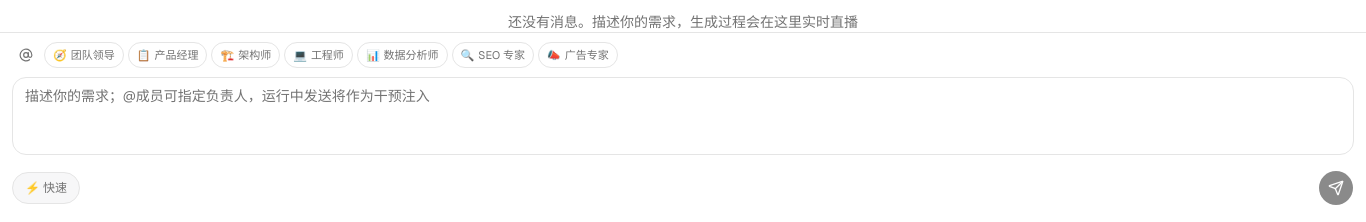
Scenario: 输入区 › @ 浮层键盘：Enter 选中候选、Esc 关闭浮层
Type "@工程师" into the text box named "输入消息" at (683, 116), box 12,77 -> 1354,155
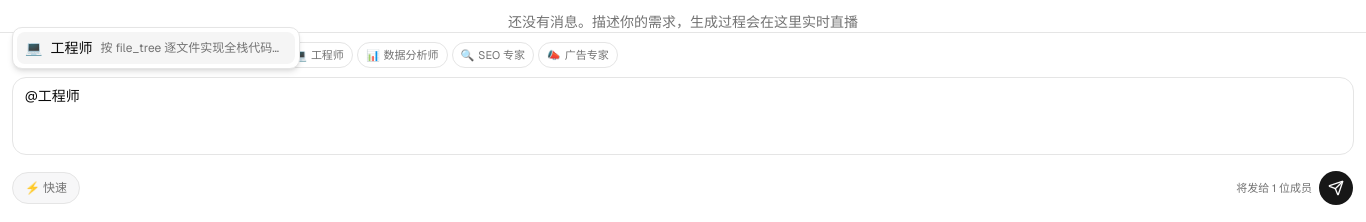
Result: the list named "成员浮层" is shown at 12,27 -> 300,69
Press Enter in the text box named "输入消息", box 12,77 -> 1354,155
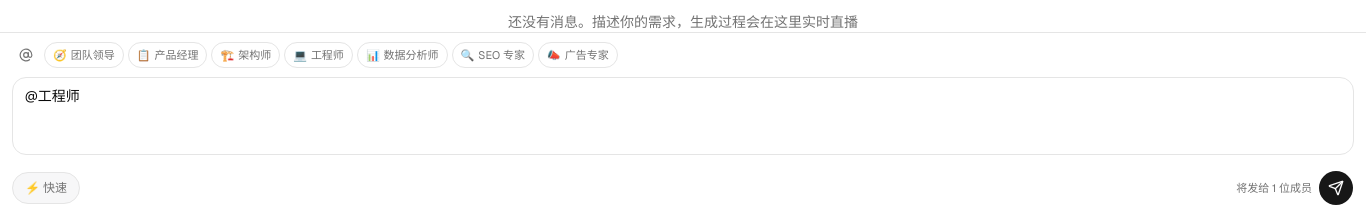
Result: the list "成员浮层" is gone
Replace the text in the text box named "输入消息" with "@seo" at (683, 116), box 12,77 -> 1354,155
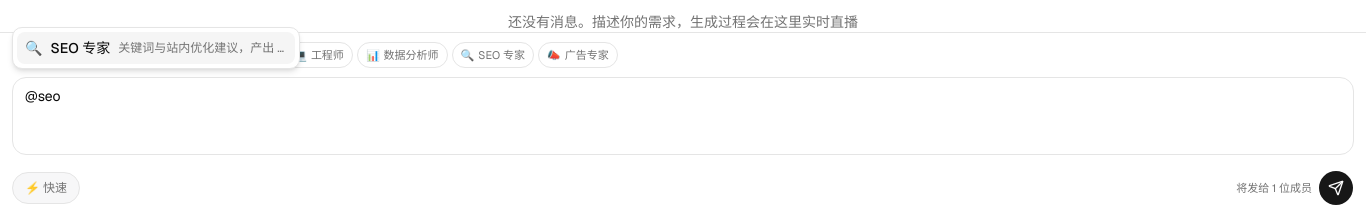
Press Escape in the text box named "输入消息", box 12,77 -> 1354,155
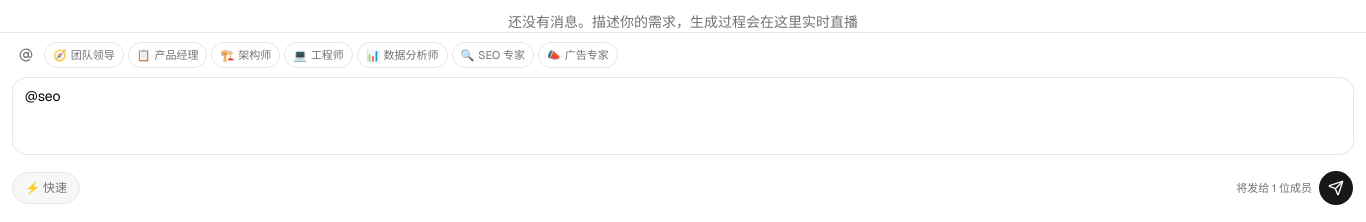
Result: the list "成员浮层" is gone
